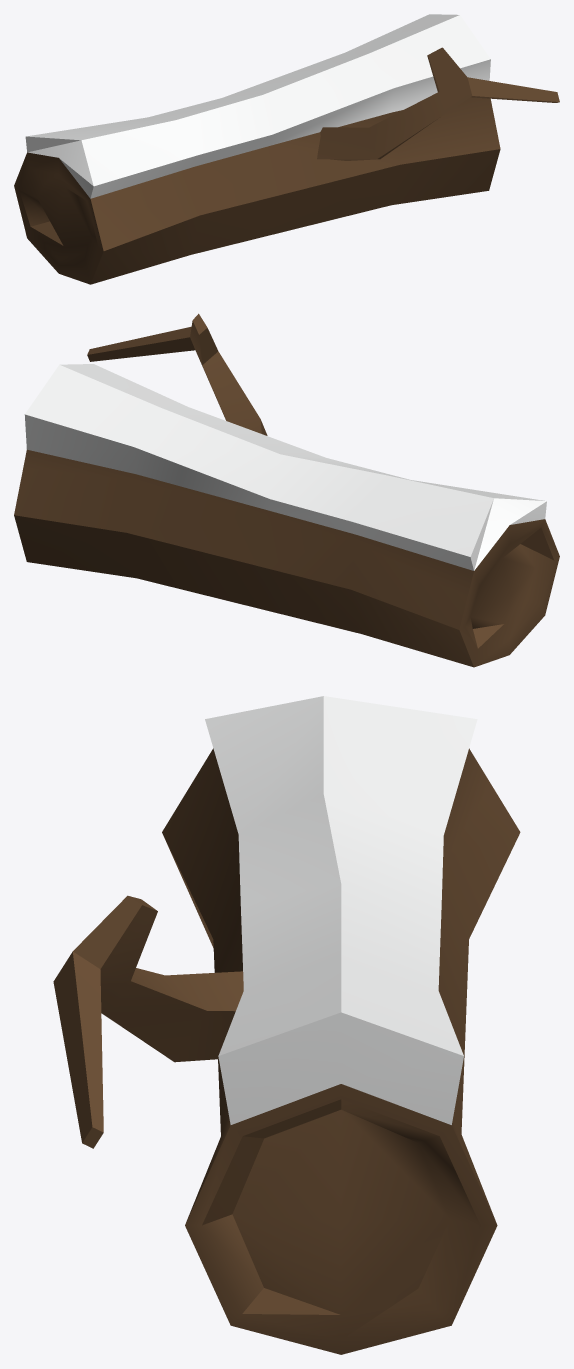
File: RONDIN.fbx
3 renders of one model, top to bottom at view 1: azimuth 30°, elevation 25°; view 2: azimuth 150°, elevation 25°; view 3: azimuth 270°, elevation 25°, orthographic. The views are drawn at different scales.
Parts seen in each view (by area): view 1: Tronc; view 2: Tronc; view 3: Tronc.
Part boxes in pixels (x1=…): Tronc: x1=14, y1=14, x2=559, y2=284; Tronc: x1=14, y1=313, x2=559, y2=667; Tronc: x1=53, y1=696, x2=520, y2=1354.
Size of the model in its own units: 204 by 86.65 by 94.33.
